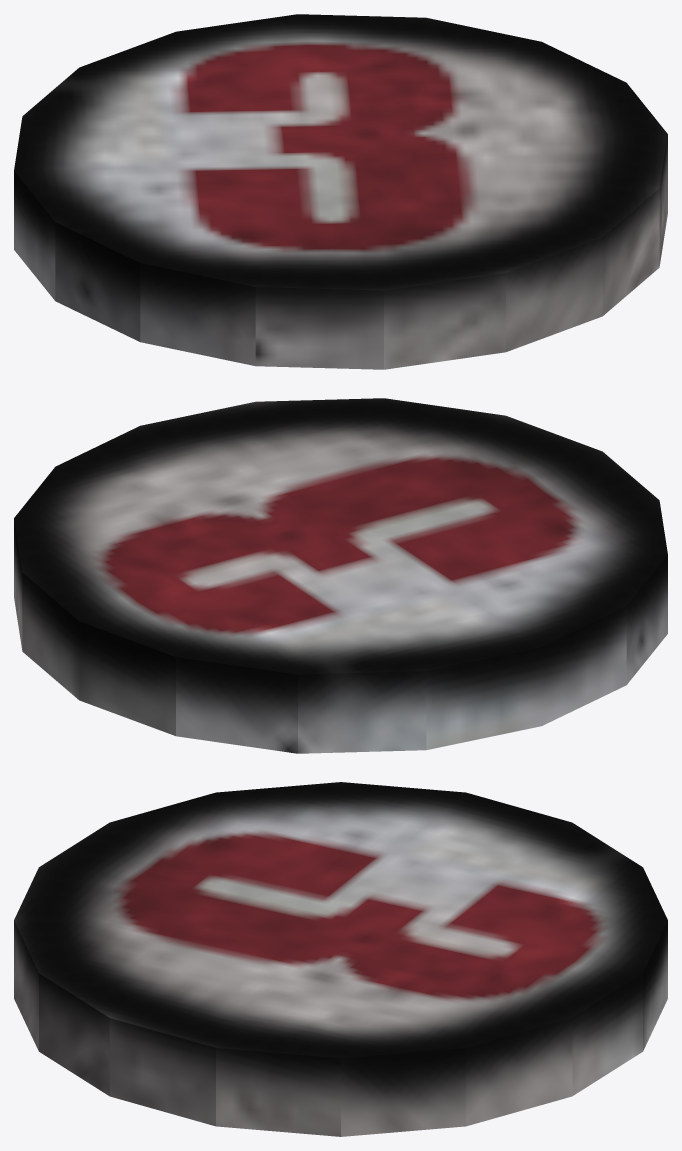
The model's file is button_3.fbx.
3 views of the same model, one above another, from view 1: azimuth 30°, elevation 25°; view 2: azimuth 150°, elevation 25°; view 3: azimuth 270°, elevation 25° (orthographic).
Parts seen in each view (by area): view 1: Circle.003; view 2: Circle.003; view 3: Circle.003.
Boxes of the visible parts, x1,y1,x2,y2 form: Circle.003: (14, 14, 667, 369); Circle.003: (14, 398, 667, 753); Circle.003: (14, 782, 667, 1136).
Size of the model in its own units: 200 by 26.5 by 200.
Materials: 1 (1 with a texture image).
